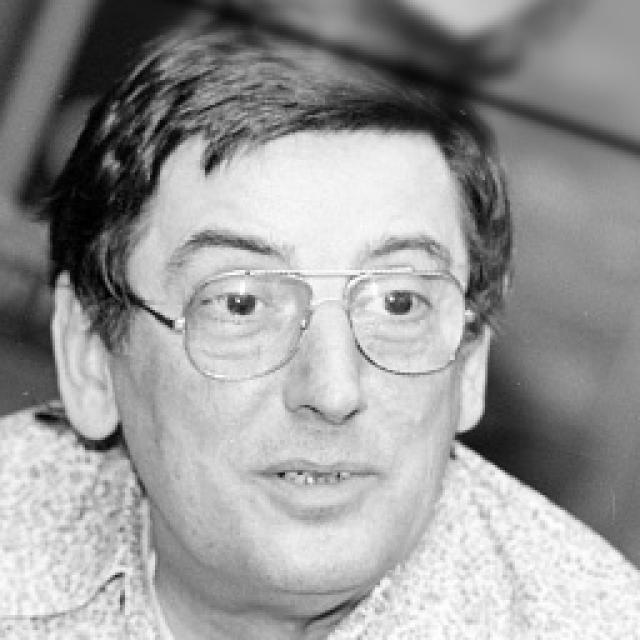glasses: (89, 254, 481, 396)
